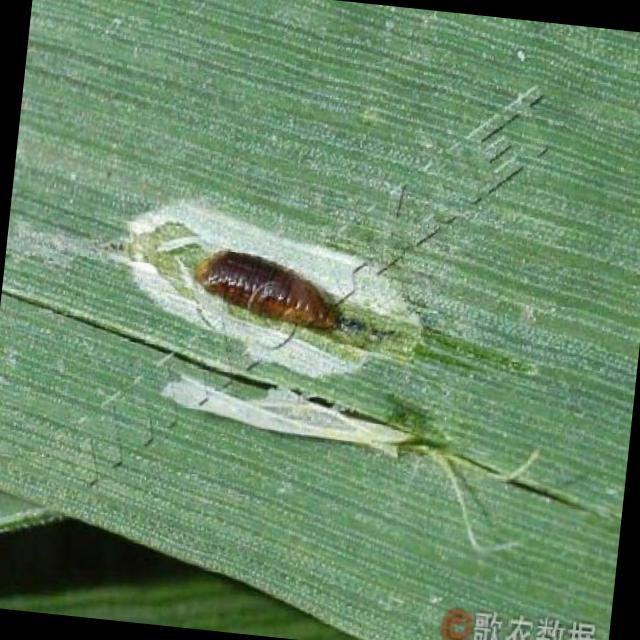whorl-maggot: (181, 223, 359, 352)
